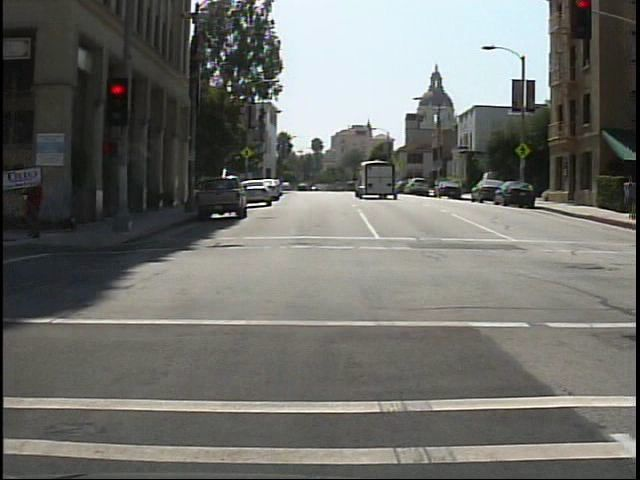person: (16, 164, 57, 243), (620, 174, 639, 221)
